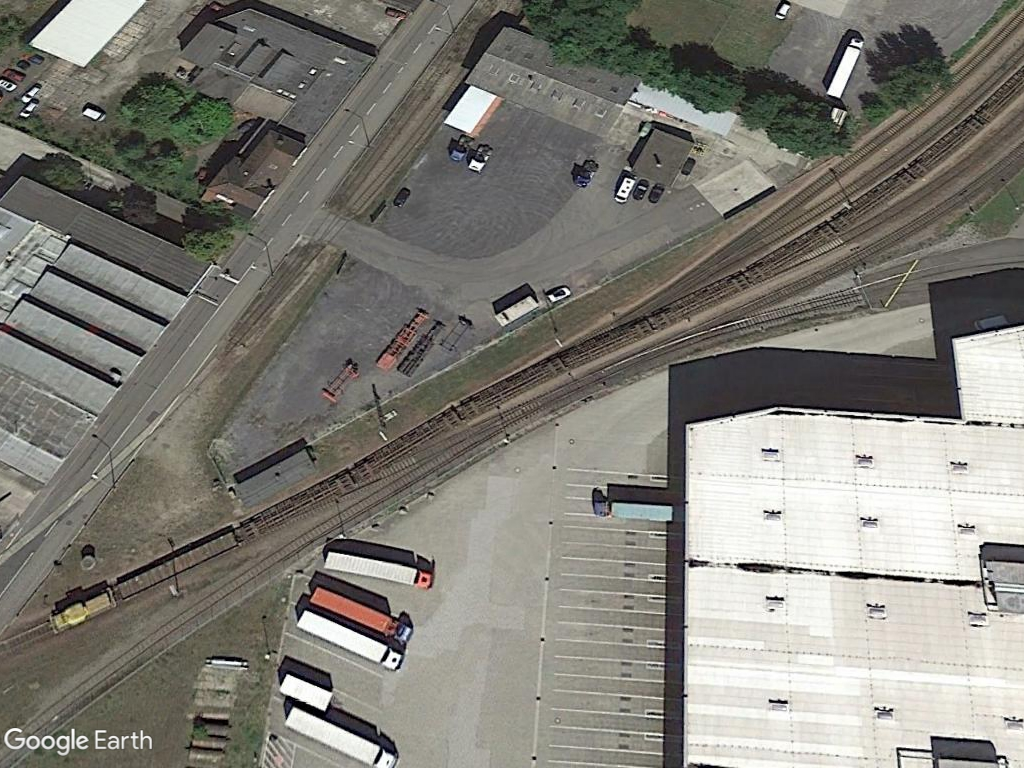longvehicle: (275, 701, 401, 768), (321, 547, 439, 593), (820, 31, 868, 97), (588, 496, 684, 527)
